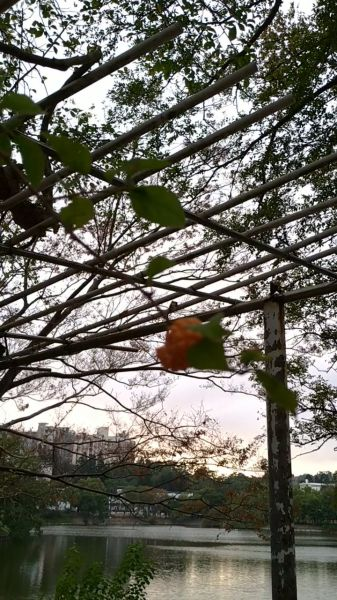eggs: (157, 318, 210, 371)
